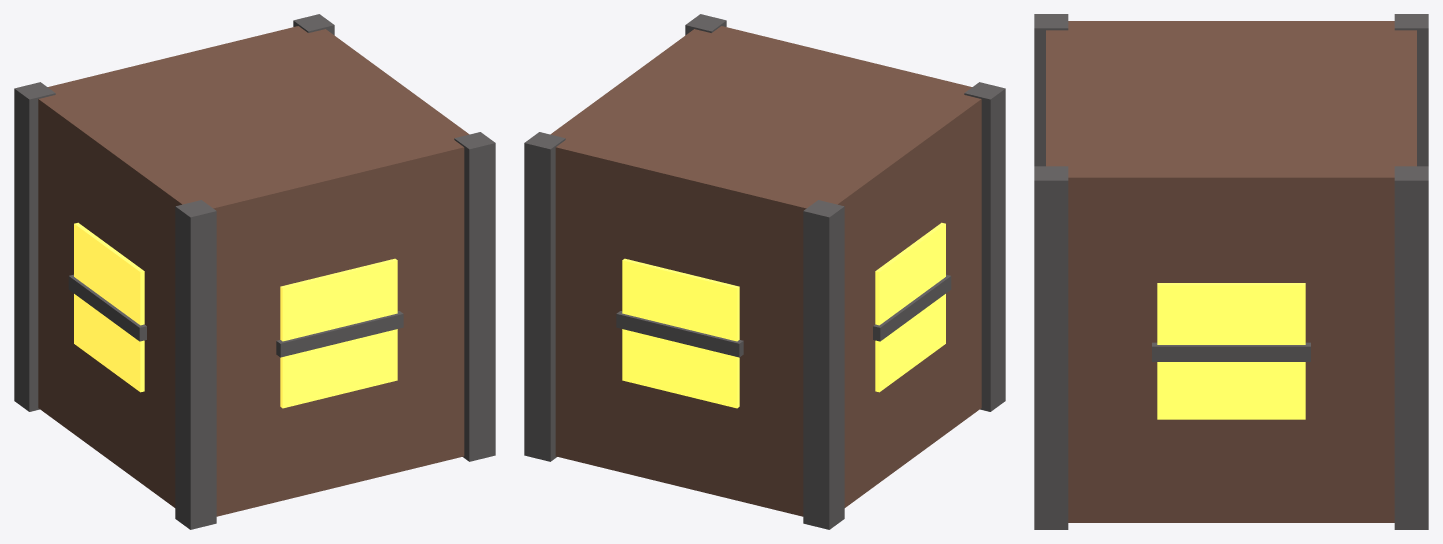
Rendered from breakable-block-magma.glb.
3 renders of one model, left to right at view 1: azimuth 30°, elevation 25°; view 2: azimuth 150°, elevation 25°; view 3: azimuth 270°, elevation 25°, orthographic. The views are drawn at different scales.
Visible parts, largest first — view 1: Magma_Crate_Body, Cube.004, Magma_Crate_Window_180, Cube.006, Cube.005, Magma_Crate_Window_270, Cube.002, Cube.003; view 2: Magma_Crate_Body, Cube.005, Magma_Crate_Window_0, Cube.007, Cube.004, Magma_Crate_Window_270, Cube, Cube.003; view 3: Magma_Crate_Body, Magma_Crate_Window_90, Cube.006, Cube.007, Cube.001, Cube.004, Cube.005.
Boxes of the visible parts, <box> form: Magma_Crate_Body: <box>38,26,469,516</box>; Cube.004: <box>175,200,216,529</box>; Magma_Crate_Window_180: <box>280,258,397,408</box>; Cube.006: <box>454,132,495,461</box>; Cube.005: <box>14,82,55,411</box>; Magma_Crate_Window_270: <box>74,222,144,392</box>; Cube.002: <box>276,311,403,357</box>; Cube.003: <box>68,274,146,341</box>; Magma_Crate_Body: <box>550,26,981,516</box>; Cube.005: <box>803,200,844,529</box>; Magma_Crate_Window_0: <box>622,258,739,408</box>; Cube.007: <box>524,132,565,461</box>; Cube.004: <box>964,82,1005,411</box>; Magma_Crate_Window_270: <box>875,222,945,392</box>; Cube: <box>616,311,743,357</box>; Cube.003: <box>873,274,951,341</box>; Magma_Crate_Body: <box>1046,21,1416,522</box>; Magma_Crate_Window_90: <box>1157,283,1305,419</box>; Cube.006: <box>1034,166,1068,529</box>; Cube.007: <box>1394,166,1428,529</box>; Cube.001: <box>1152,342,1310,361</box>; Cube.004: <box>1034,14,1068,166</box>; Cube.005: <box>1394,14,1428,166</box>.
Bounding box in the file's own units: 1.86 × 1.82 × 1.86.
